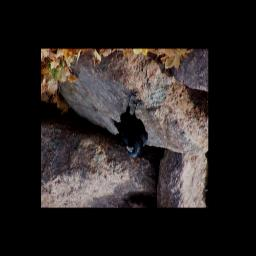Crow: (106, 88, 148, 161)
